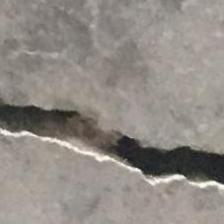Crack: (0, 84, 224, 205)
